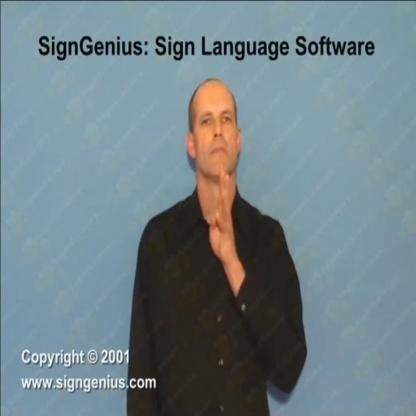Talk: (126, 71, 309, 416)
